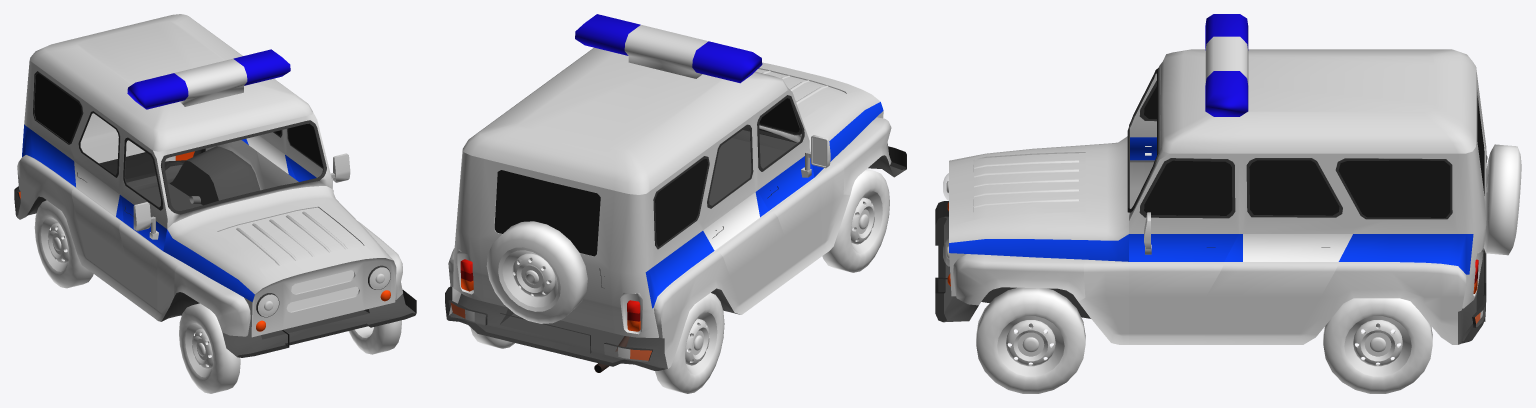
The model's file is police.gltf.
3 renders of one model, left to right at view 1: azimuth 30°, elevation 25°; view 2: azimuth 150°, elevation 25°; view 3: azimuth 270°, elevation 25°, orthographic. The views are drawn at different scales.
Visible parts, largest first — view 1: Плоскость.008, Плоскость.003, Плоскость.001, Плоскость.010, Плоскость.007, Плоскость.005, Плоскость.006, Куб.001, Плоскость.002, Плоскость.004, Цилиндр.011, Цилиндр.008 (+7 smaller); view 2: Плоскость.008, Плоскость.003, Плоскость.009, Плоскость.010, Цилиндр.013, Куб.001, Плоскость.007, Плоскость.006, Плоскость.001, Плоскость.002, Цилиндр.011, Цилиндр.008 (+5 smaller); view 3: Плоскость.008, Плоскость.003, Плоскость.007, Плоскость.006, Плоскость.001, Плоскость.002, Цилиндр.005, Цилиндр.001, Плоскость.004, Куб.001, Цилиндр.013, Цилиндр (+5 smaller).
Part boxes in pixels (box(x1,y1,x2,y2)): Плоскость.008: box(29, 14, 312, 151); Плоскость.003: box(17, 61, 332, 317); Плоскость.001: box(185, 205, 393, 301); Плоскость.010: box(16, 146, 416, 356); Плоскость.007: box(119, 123, 350, 309); Плоскость.005: box(251, 258, 396, 337); Плоскость.006: box(71, 107, 294, 274); Куб.001: box(127, 49, 290, 109); Плоскость.002: box(154, 221, 402, 337); Плоскость.004: box(163, 186, 345, 263); Цилиндр.011: box(179, 303, 240, 393); Цилиндр.008: box(34, 200, 93, 288); Плоскость.008: box(462, 47, 787, 194); Плоскость.003: box(448, 87, 824, 368); Плоскость.009: box(479, 159, 614, 333); Плоскость.010: box(448, 130, 906, 368); Цилиндр.013: box(486, 221, 587, 323); Куб.001: box(575, 14, 762, 83); Плоскость.007: box(754, 90, 830, 263); Плоскость.006: box(702, 116, 766, 303); Плоскость.001: box(755, 62, 883, 160); Плоскость.002: box(815, 111, 891, 253); Цилиндр.011: box(822, 169, 889, 272); Цилиндр.008: box(655, 293, 724, 393); Плоскость.008: box(1160, 49, 1476, 153); Плоскость.003: box(1127, 62, 1486, 344); Плоскость.007: box(1129, 73, 1239, 333); Плоскость.006: box(1242, 153, 1354, 333); Плоскость.001: box(949, 145, 1085, 259); Плоскость.002: box(949, 253, 1128, 344); Цилиндр.005: box(976, 287, 1085, 393); Цилиндр.001: box(1323, 298, 1432, 393); Плоскость.004: box(1085, 136, 1128, 261); Куб.001: box(1205, 14, 1248, 116); Цилиндр.013: box(1484, 144, 1521, 255); Цилиндр: box(1344, 316, 1411, 376).
Bounding box in the file's own units: 2.12 × 2.27 × 4.19.
